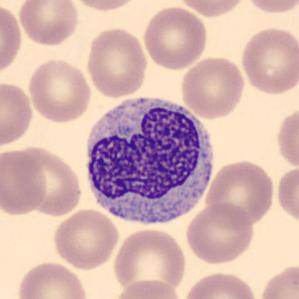Monocyte: (79, 89, 220, 232)
RBC: (12, 144, 84, 219), (111, 226, 188, 294), (204, 158, 277, 227), (84, 25, 150, 99), (183, 201, 257, 265), (26, 56, 93, 124), (141, 4, 209, 71), (178, 55, 246, 120), (50, 208, 120, 270), (238, 24, 298, 96), (0, 148, 49, 217), (14, 259, 91, 299), (16, 0, 80, 47), (0, 79, 35, 149), (181, 269, 259, 299), (0, 2, 24, 78), (111, 276, 186, 299), (274, 103, 298, 173), (257, 261, 298, 299), (275, 164, 298, 228), (176, 0, 248, 19), (66, 0, 143, 13), (242, 0, 298, 15)
